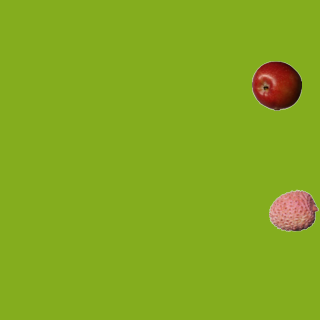Apple Braeburn: (251, 60, 301, 110)
Lychee: (268, 185, 318, 235)
